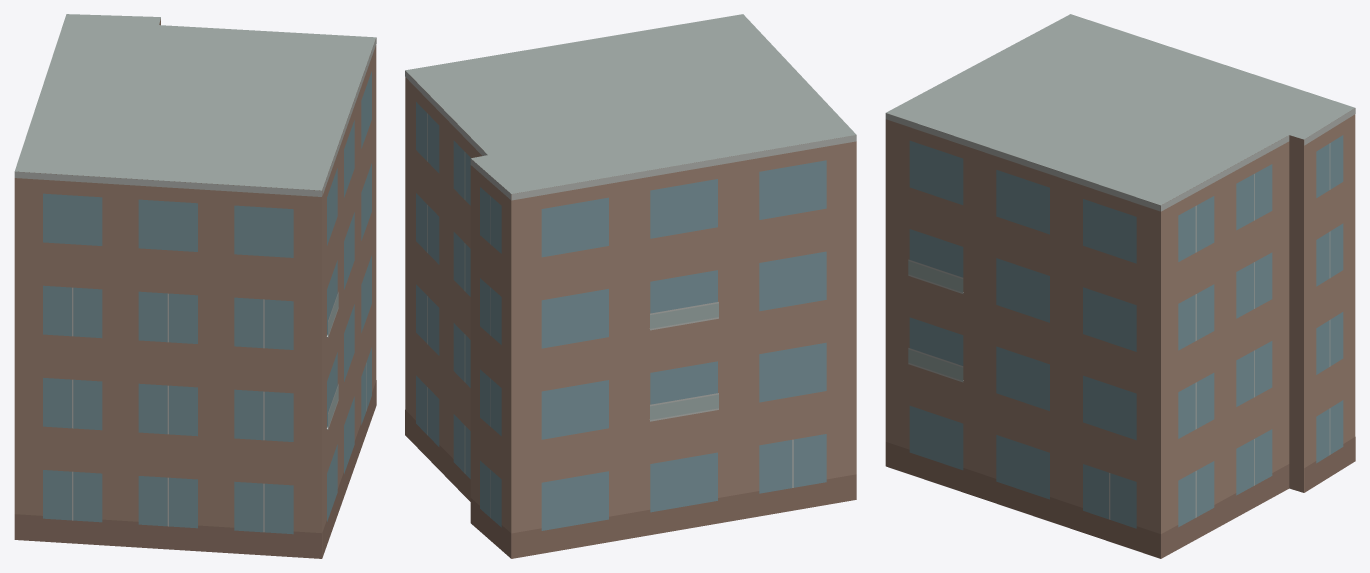
File: survey-upis-32855230.glb
3 views of the same model, side by side, from view 1: azimuth 30°, elevation 25°; view 2: azimuth 150°, elevation 25°; view 3: azimuth 270°, elevation 25° (orthographic). The views are drawn at different scales.
Visible parts, largest first — view 1: survey-upis-32855230.tmp; view 2: survey-upis-32855230.tmp; view 3: survey-upis-32855230.tmp.
Part boxes in pixels (left/top/right/bottom): survey-upis-32855230.tmp: left=14, top=14, right=376, bottom=558; survey-upis-32855230.tmp: left=405, top=14, right=856, bottom=558; survey-upis-32855230.tmp: left=885, top=14, right=1355, bottom=558.
Bounding box in the file's own units: 16.04 × 13.8 × 16.63.
